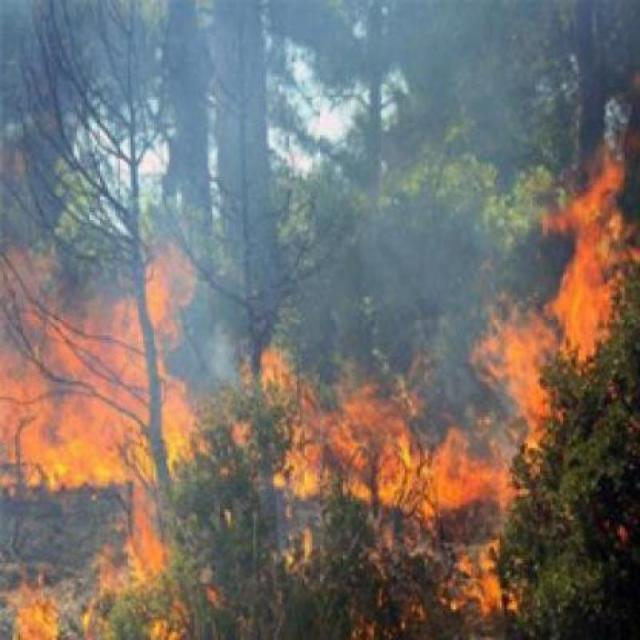Fire: (0, 243, 640, 640)
Smoke: (7, 32, 640, 214)
